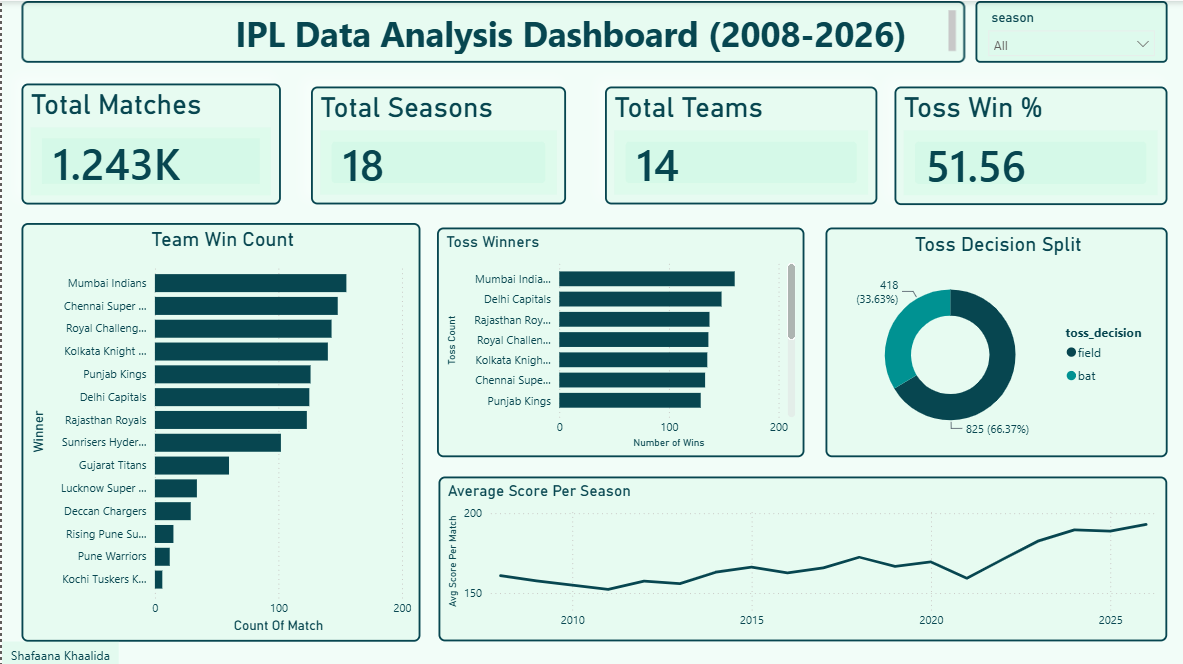

What the dashboard file says about the page in this screenshot:
{"tool":"powerbi","page":{"name":"Team & Match Overview","canvas":[1280,720],"ordinal":0},"visuals":[{"type":"textbox","box":[21,0,1018.5,66.4],"z":0},{"type":"cardVisual","title":"Total Matches","fields":{"Data":["CountNonNull(ipl_db dim_match.match_id)"]},"box":[20.7,89.1,279.9,130.4],"z":1000},{"type":"cardVisual","title":"Total Seasons","fields":{"Data":["Count(ipl_db dim_match.season)"]},"box":[334,92.3,275.2,127.2],"z":2000},{"type":"cardVisual","title":"Total Teams","fields":{"Data":["Count(ipl_db dim_team.team_name)"]},"box":[650.6,92.3,294.3,127.2],"z":3000},{"type":"clusteredBarChart","title":"Team Win Count","fields":{"Category":["ipl_db dim_match.winner"],"Y":["CountNonNull(ipl_db dim_match.match_id)"]},"box":[21,239.6,430.7,451.8],"z":4000},{"type":"slicer","title":"Toss Decision Split","fields":{"Values":["ipl_db dim_match.season"]},"box":[1050.9,0,207.3,66.4],"z":5000},{"type":"donutChart","title":"Toss Decision Split","fields":{"Category":["ipl_db dim_match.toss_decision"],"Y":["CountNonNull(ipl_db dim_match.match_id)"]},"box":[889,244.5,369.2,247.7],"z":6000},{"type":"clusteredBarChart","title":"Toss Winners","fields":{"Category":["ipl_db dim_match.toss_winner"],"Y":["CountNonNull(ipl_db dim_match.match_id)"]},"box":[469.6,244.5,396.7,247.7],"z":7000},{"type":"lineChart","title":"Average Score Per Season","fields":{"Category":["ipl_db dim_match.season"],"Y":["ipl_db dim_match.Avg Score Per Match"]},"box":[471.2,513.3,786.9,178.1],"z":8000},{"type":"cardVisual","title":"Toss Win %","fields":{"Data":["ipl_db dim_match.Toss Win %"]},"box":[963.4,92.3,294.7,127.9],"z":9000},{"type":"textbox","box":[0,691.4,126.3,29.1],"z":10000}]}

Visuals, with their boxes in screenshot pixels (x1, y1, x2, y2), scaled from the page's 1280x720 canvas onto the 1183x664 screenshot:
textbox: (x1=19, y1=0, x2=961, y2=61)
"Total Matches" cardVisual: (x1=19, y1=82, x2=278, y2=202)
"Total Seasons" cardVisual: (x1=309, y1=85, x2=563, y2=202)
"Total Teams" cardVisual: (x1=601, y1=85, x2=873, y2=202)
"Team Win Count" clusteredBarChart: (x1=19, y1=221, x2=417, y2=638)
"Toss Decision Split" slicer: (x1=971, y1=0, x2=1163, y2=61)
"Toss Decision Split" donutChart: (x1=822, y1=225, x2=1163, y2=454)
"Toss Winners" clusteredBarChart: (x1=434, y1=225, x2=801, y2=454)
"Average Score Per Season" lineChart: (x1=435, y1=473, x2=1163, y2=638)
"Toss Win %" cardVisual: (x1=890, y1=85, x2=1163, y2=203)
textbox: (x1=0, y1=638, x2=117, y2=663)
